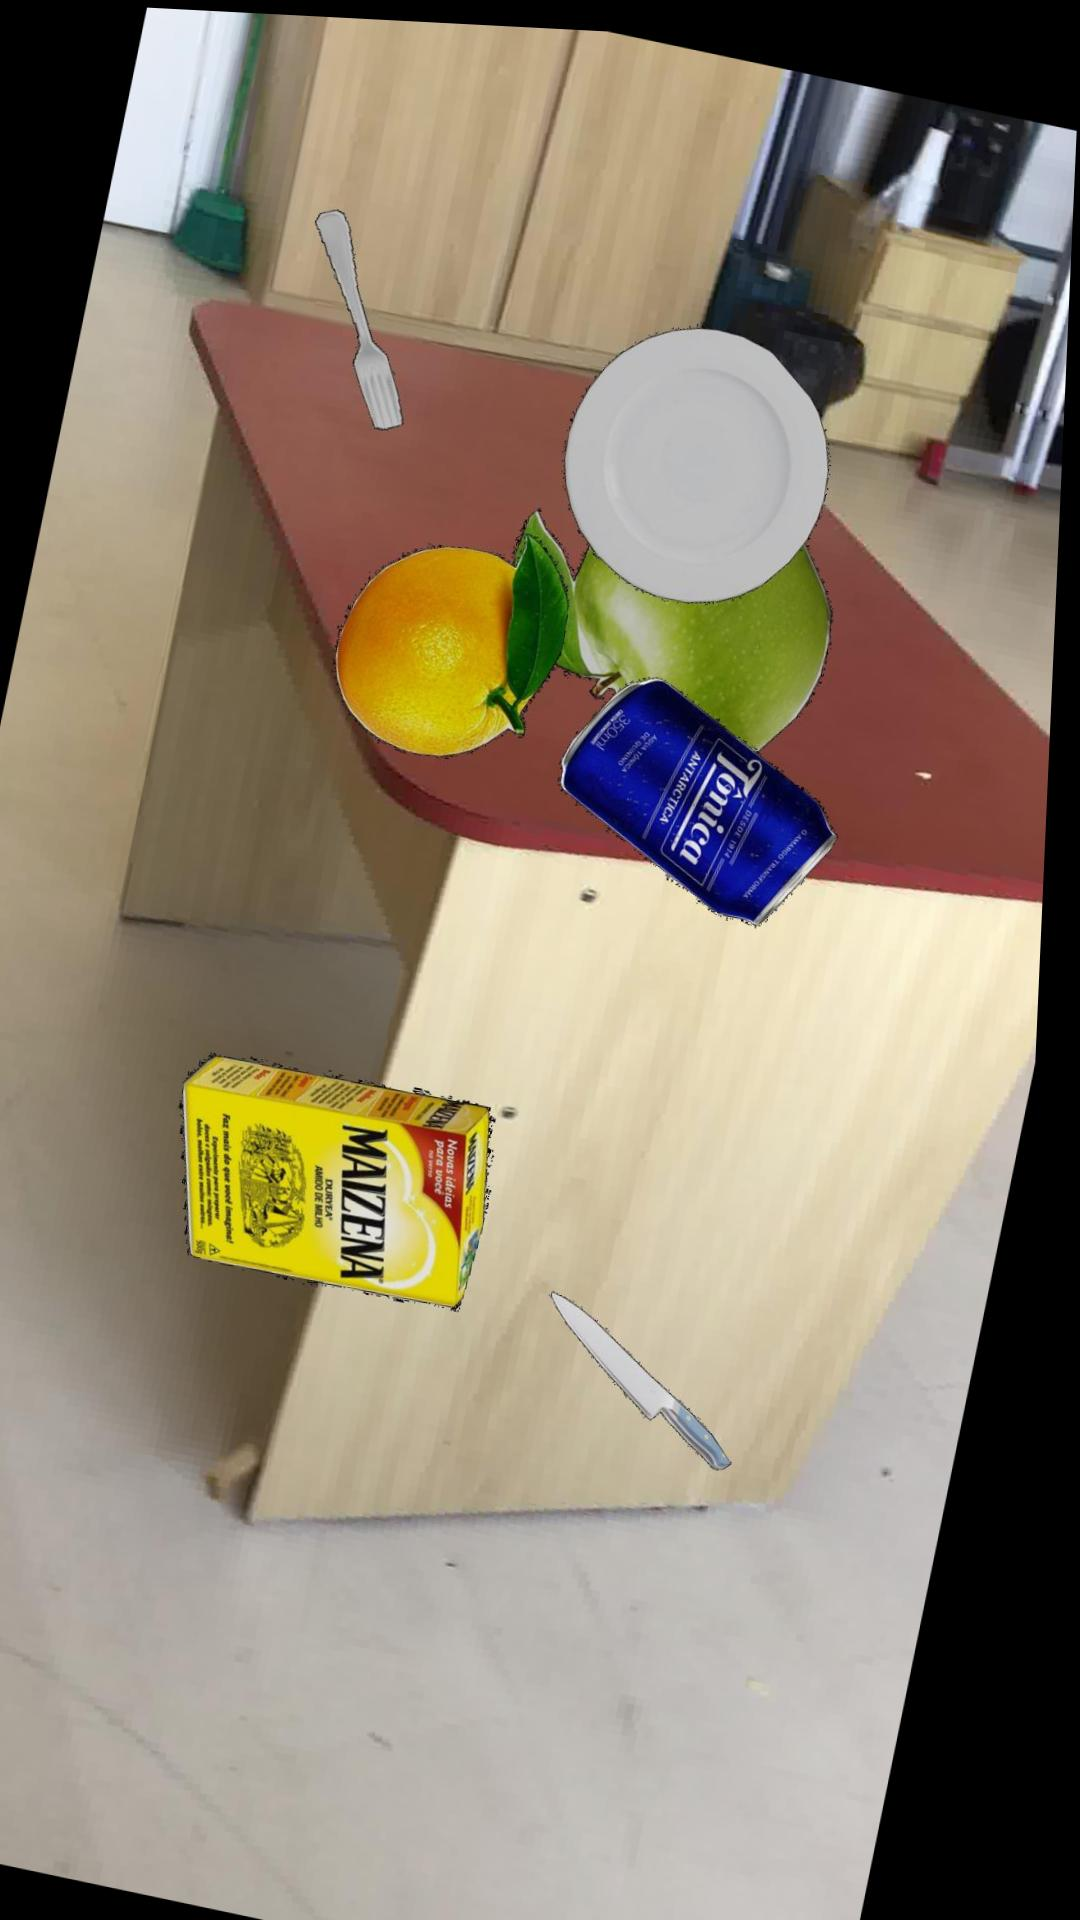fork: (318, 203, 407, 423)
green apple: (518, 500, 839, 740)
knife: (563, 1282, 745, 1458)
orange: (340, 525, 575, 749)
plate: (568, 316, 833, 593)
tonic: (567, 667, 847, 916)
